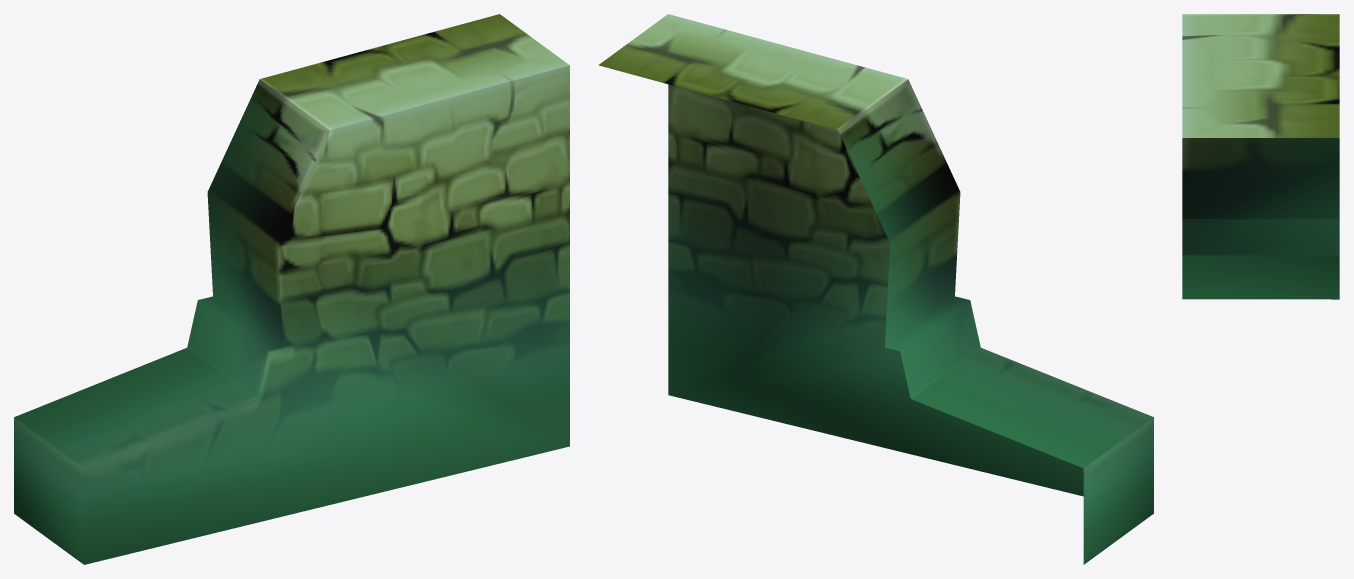
3 views of the same model, side by side, from view 1: azimuth 30°, elevation 25°; view 2: azimuth 150°, elevation 25°; view 3: azimuth 270°, elevation 25° (orthographic). The views are drawn at different scales.
Visible parts, largest first — view 1: Object002; view 2: Object002; view 3: Object002.
Part boxes in pixels (x1,y1,x2,y2): Object002: [14, 14, 569, 564]; Object002: [598, 14, 1153, 564]; Object002: [1182, 14, 1339, 299].
Bounding box in the file's own units: 400 × 100 × 300.
